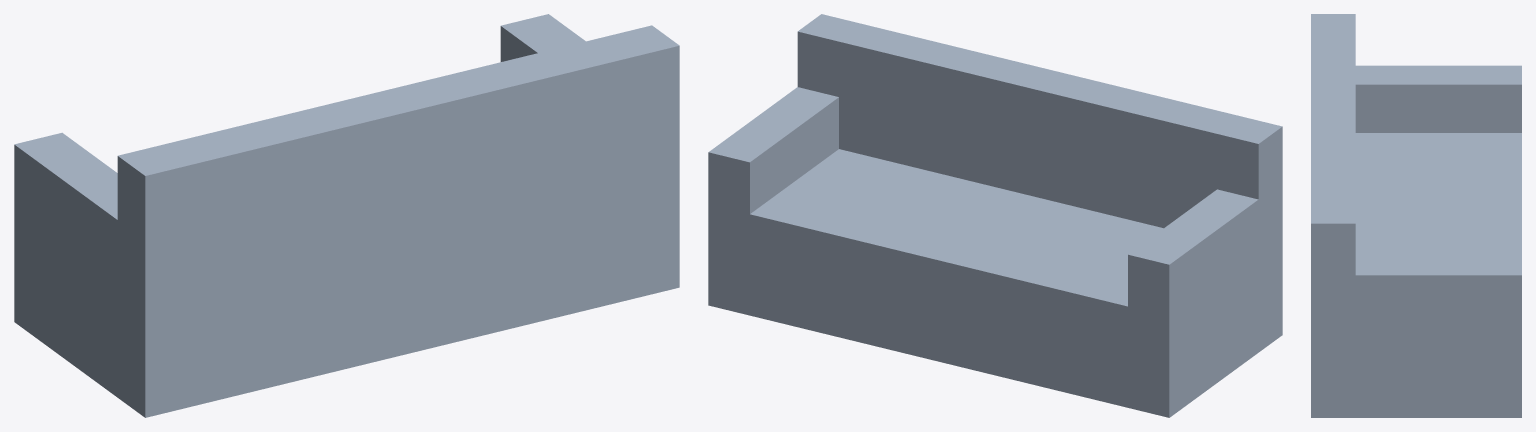
Rendered from couch.glb.
3 renders of one model, left to right at view 1: azimuth 30°, elevation 25°; view 2: azimuth 150°, elevation 25°; view 3: azimuth 270°, elevation 25°, orthographic. The views are drawn at different scales.
Parts seen in each view (by area): view 1: back, seat, arm_l, arm_r; view 2: seat, back, arm_l, arm_r; view 3: seat, arm_r, back, arm_l.
Part boxes in pixels (box(x1,y1,x2,y2)): back: box(117, 25, 679, 329); seat: box(14, 170, 679, 417); arm_l: box(14, 132, 193, 393); arm_r: box(500, 14, 679, 267); seat: box(708, 149, 1282, 417); back: box(797, 14, 1282, 276); arm_l: box(1128, 182, 1282, 394); arm_r: box(708, 87, 838, 294); seat: box(1311, 133, 1521, 417); arm_r: box(1311, 256, 1521, 398); back: box(1311, 14, 1355, 345); arm_l: box(1355, 65, 1521, 132).
Size of the model in its own units: 2 by 0.865 by 0.85.
